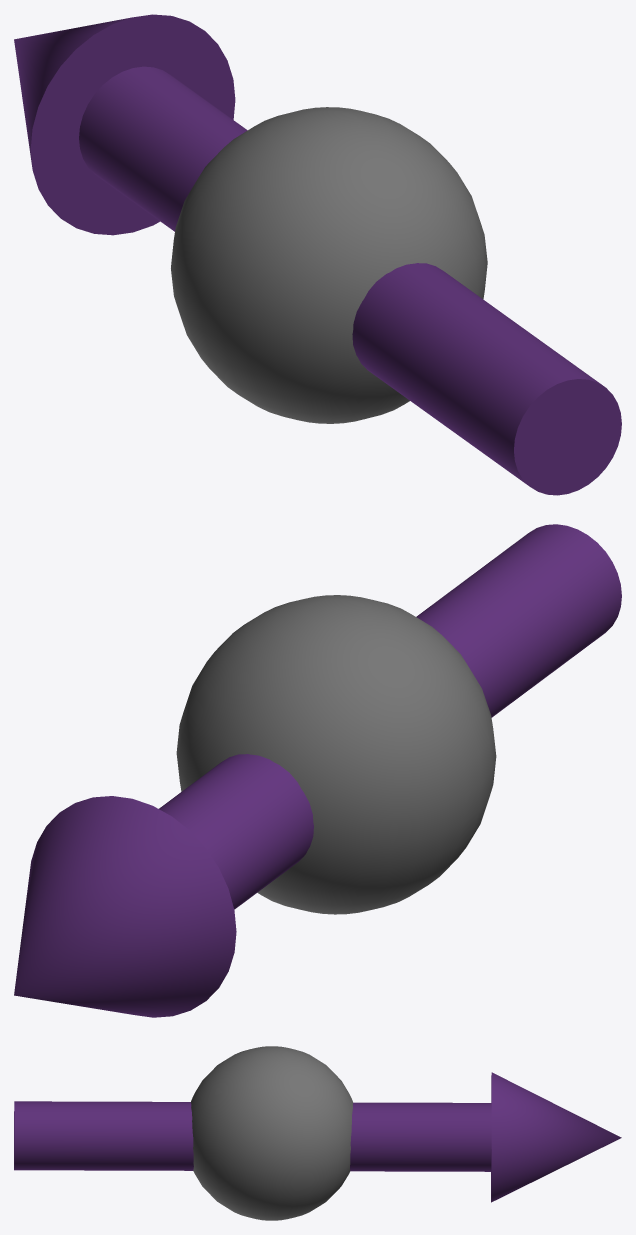
Rendered from spin.glb.
3 views of the same model, one above another, from view 1: azimuth 30°, elevation 25°; view 2: azimuth 150°, elevation 25°; view 3: azimuth 270°, elevation 25° (orthographic). The views are drawn at different scales.
Visible parts, largest first — view 1: Spin; view 2: Spin; view 3: Spin.
Boxes of the visible parts, x1,y1,x2,y2 form: Spin: [14, 14, 621, 495]; Spin: [14, 524, 621, 1017]; Spin: [14, 1046, 621, 1220].
Size of the model in its own units: 0.7577 by 0.7612 by 2.65.
